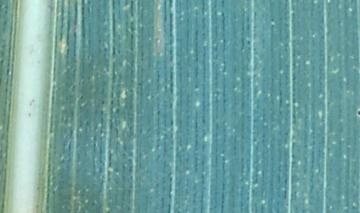tarspot: (354, 102, 360, 121)
